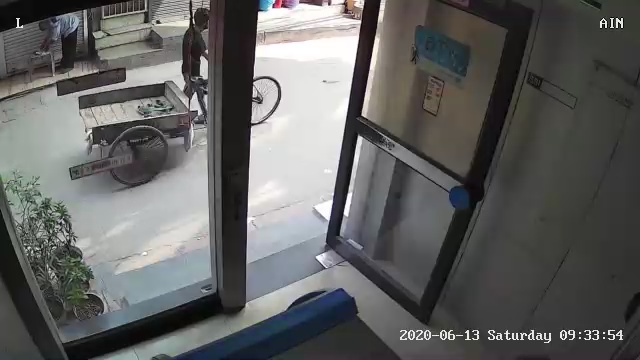open: (186, 5, 541, 328)
